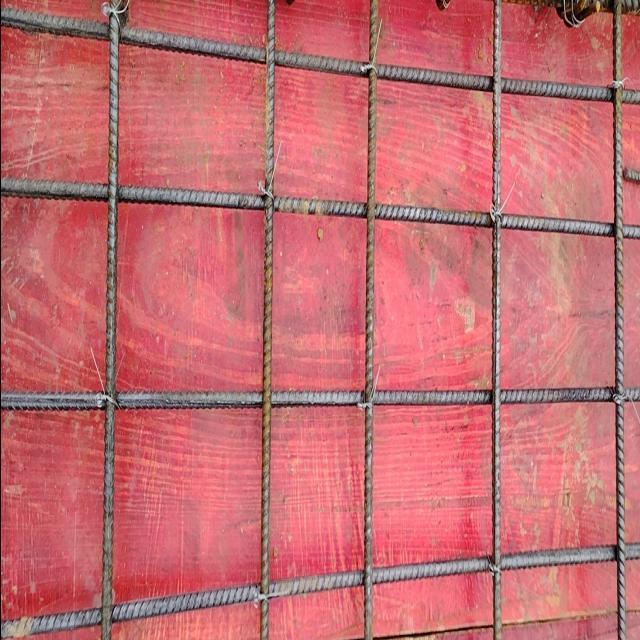ribbed bar: (1, 7, 640, 113), (1, 537, 640, 640), (1, 174, 640, 243), (1, 387, 640, 413), (258, 2, 276, 640), (101, 2, 118, 640), (362, 2, 378, 640), (611, 2, 625, 640), (492, 2, 502, 640)
